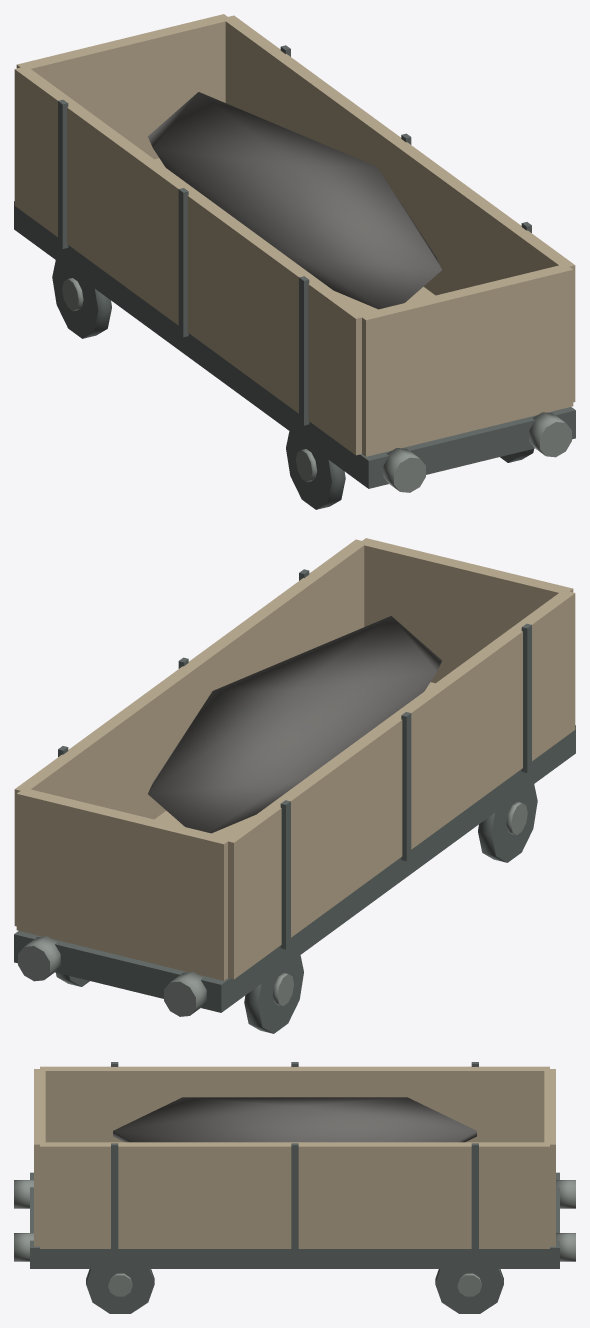
File: rhine-coal_lod1.glb
The picture shows the model from 3 angles, top to bottom: view 1: azimuth 30°, elevation 25°; view 2: azimuth 150°, elevation 25°; view 3: azimuth 270°, elevation 25°; orthographic projection. The views are drawn at different scales.
Parts seen in each view (by area): view 1: RF_WagonSide.001, RF_WagonEnd.001, RF_CoalLoad, RF_WagonSide, RF_WagonEnd, RF_Chassis, RF_Wheel.003, RF_Wheel.001, RF_WagonStrap.002, RF_WagonStrap.001, RF_Buffer.002, RF_Buffer.001 (+1 smaller); view 2: RF_WagonSide.001, RF_WagonEnd, RF_CoalLoad, RF_WagonSide, RF_WagonEnd.001, RF_Chassis, RF_Wheel.001, RF_Wheel.003, RF_WagonStrap.002, RF_WagonStrap.003, RF_Buffer, RF_Buffer.003 (+1 smaller); view 3: RF_WagonSide, RF_WagonSide.001, RF_CoalLoad, RF_Chassis, RF_Wheel.002, RF_Wheel, RF_WagonEnd, RF_WagonEnd.001, RF_WagonStrap.005, RF_WagonStrap.004, RF_WagonStrap, RF_Buffer.001 (+5 smaller).
Boxes of the visible parts, x1,y1,x2,y2 form: RF_WagonSide.001: [14, 66, 364, 455]; RF_WagonEnd.001: [358, 264, 573, 456]; RF_CoalLoad: [148, 92, 441, 309]; RF_WagonSide: [222, 15, 575, 402]; RF_WagonEnd: [16, 14, 228, 159]; RF_Chassis: [14, 201, 575, 488]; RF_Wheel.003: [52, 260, 111, 338]; RF_Wheel.001: [286, 431, 345, 509]; RF_WagonStrap.002: [178, 188, 188, 337]; RF_WagonStrap.001: [299, 276, 309, 425]; RF_Buffer.002: [529, 412, 571, 457]; RF_Buffer.001: [383, 448, 425, 492]; RF_WagonSide.001: [225, 590, 575, 979]; RF_WagonEnd: [16, 788, 231, 980]; RF_CoalLoad: [148, 616, 441, 833]; RF_WagonSide: [14, 539, 367, 926]; RF_WagonEnd.001: [360, 538, 573, 683]; RF_Chassis: [14, 725, 575, 1012]; RF_Wheel.001: [478, 784, 537, 862]; RF_Wheel.003: [244, 955, 303, 1033]; RF_WagonStrap.002: [401, 712, 411, 861]; RF_WagonStrap.003: [280, 800, 290, 949]; RF_Buffer: [18, 936, 60, 981]; RF_Buffer.003: [164, 972, 206, 1016]; RF_WagonSide: [40, 1142, 549, 1248]; RF_WagonSide.001: [40, 1066, 549, 1142]; RF_CoalLoad: [113, 1097, 476, 1142]; RF_Chassis: [30, 1172, 559, 1268]; RF_Wheel.002: [86, 1269, 154, 1313]; RF_Wheel: [435, 1269, 503, 1313]; RF_WagonEnd: [544, 1069, 555, 1246]; RF_WagonEnd.001: [34, 1069, 45, 1246]; RF_WagonStrap.005: [291, 1143, 298, 1253]; RF_WagonStrap.004: [111, 1143, 118, 1253]; RF_WagonStrap: [471, 1143, 478, 1253]; RF_Buffer.001: [14, 1180, 33, 1208].
Bounding box in the file's own units: 2.97 × 2.87 × 8.48.
